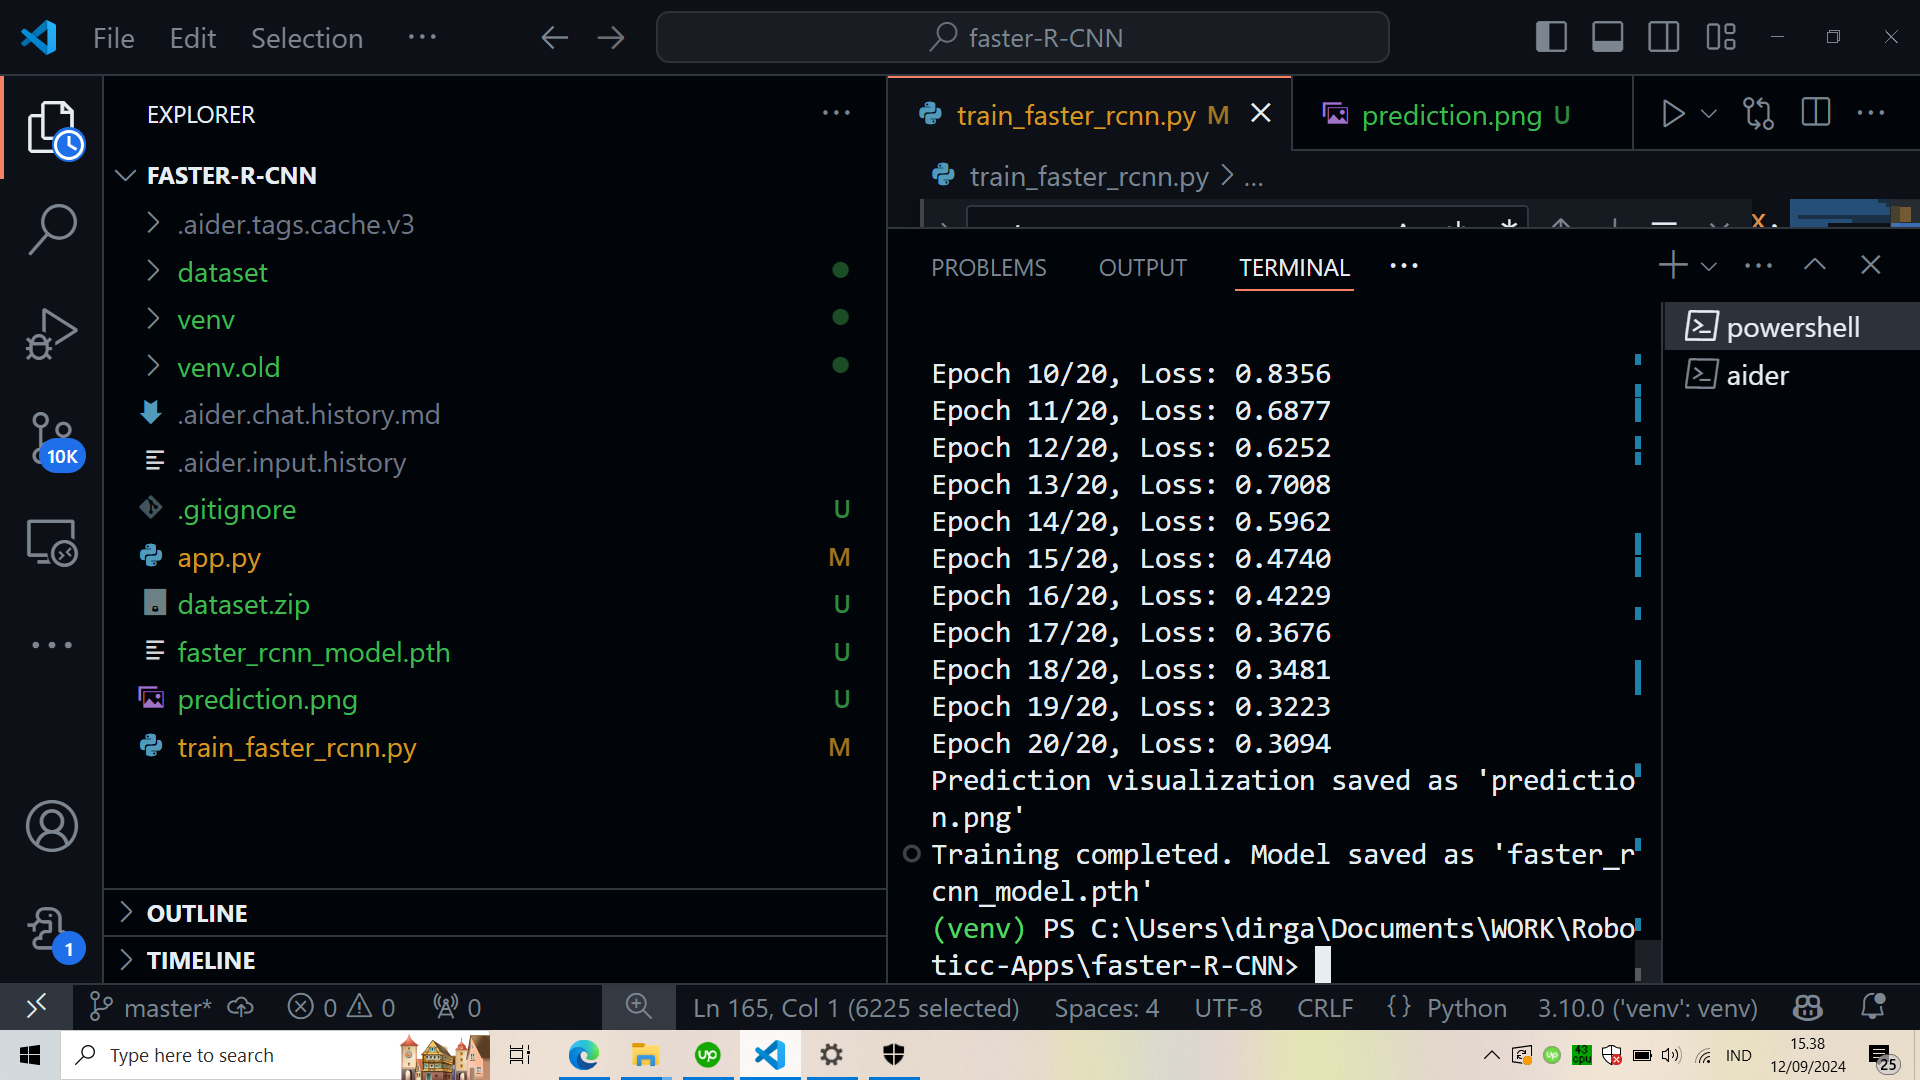branch: (15, 384, 95, 484)
file: (8, 84, 90, 167)
search: (8, 190, 88, 268)
user: (7, 778, 95, 869)
